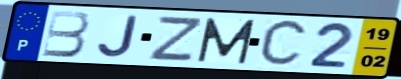2: (308, 20, 356, 72)
B: (39, 10, 91, 59)
C: (256, 17, 311, 70)
J: (95, 14, 141, 59)
M: (195, 17, 258, 66)
Z: (146, 16, 207, 63)
